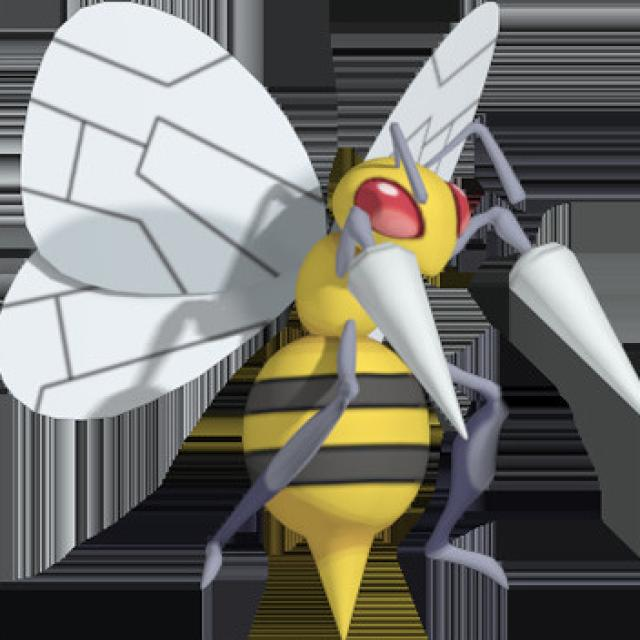Beedrill: (37, 17, 591, 594)
